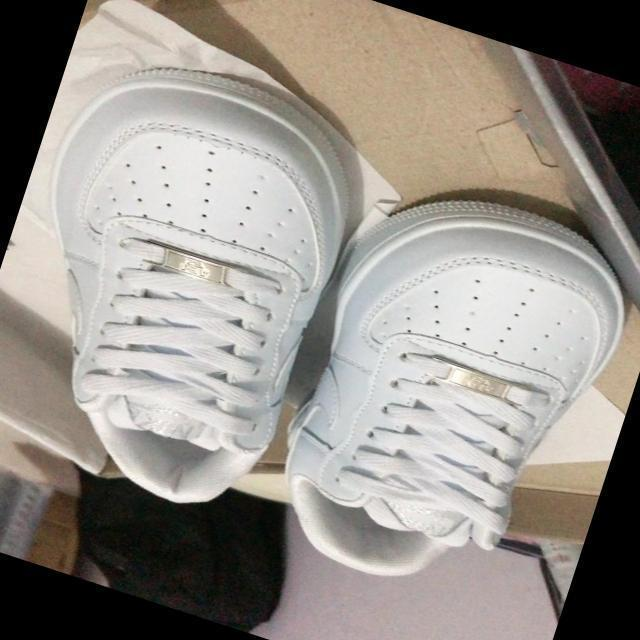nike fake air force: (0, 27, 387, 545), (245, 154, 640, 636)
